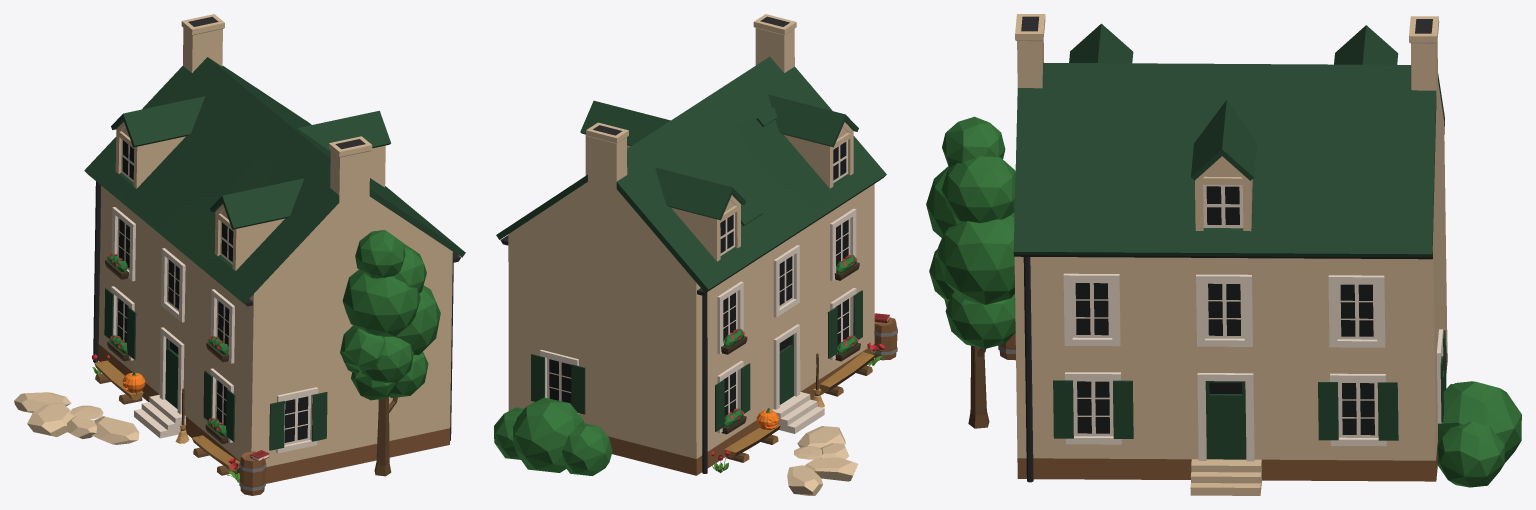
Rendered from house.fbx.
3 views of the same model, side by side, from view 1: azimuth 30°, elevation 25°; view 2: azimuth 150°, elevation 25°; view 3: azimuth 270°, elevation 25° (orthographic). The views are drawn at different scales.
Parts seen in each view (by area): view 1: building_house_middle, tree_oak, stone_diamond__2_, barrel01__5_, stone_diamond, bench_forest, bench_forest__1_, stone_diamond__3_, stone_diamond__1_; view 2: building_house_middle, shrub_round__3_, shrub_round__5_, bench_forest__1_, stone_diamond__2_, shrub_round__4_, bench_forest, stone_diamond__3_, barrel01__5_, stone_diamond, flowers_window__3_; view 3: building_house_middle, tree_oak, shrub_round__3_, shrub_round__4_.
Boxes of the visible parts, x1,y1,x2,y2 form: building_house_middle: (84,14,465,483); tree_oak: (340,230,440,476); stone_diamond__2_: (27,404,74,436); barrel01__5_: (239,451,266,495); stone_diamond: (91,416,139,444); bench_forest: (94,360,143,404); bench_forest__1_: (192,435,239,475); stone_diamond__3_: (14,392,71,413); stone_diamond__1_: (66,416,96,438); building_house_middle: (496,14,886,475); shrub_round__3_: (513,397,583,472); shrub_round__5_: (562,422,612,475); bench_forest__1_: (820,352,874,396); stone_diamond__2_: (805,457,857,481); shrub_round__4_: (494,407,523,459); bench_forest: (724,424,780,462); stone_diamond__3_: (787,465,822,495); barrel01__5_: (874,317,897,360); stone_diamond: (797,426,845,447); flowers_window__3_: (721,328,747,354); building_house_middle: (1013,14,1447,495); tree_oak: (926,116,1015,428); shrub_round__3_: (1438,381,1521,463); shrub_round__4_: (1437,422,1504,487).
Size of the model in its own units: 1060 by 1053 by 1344.
